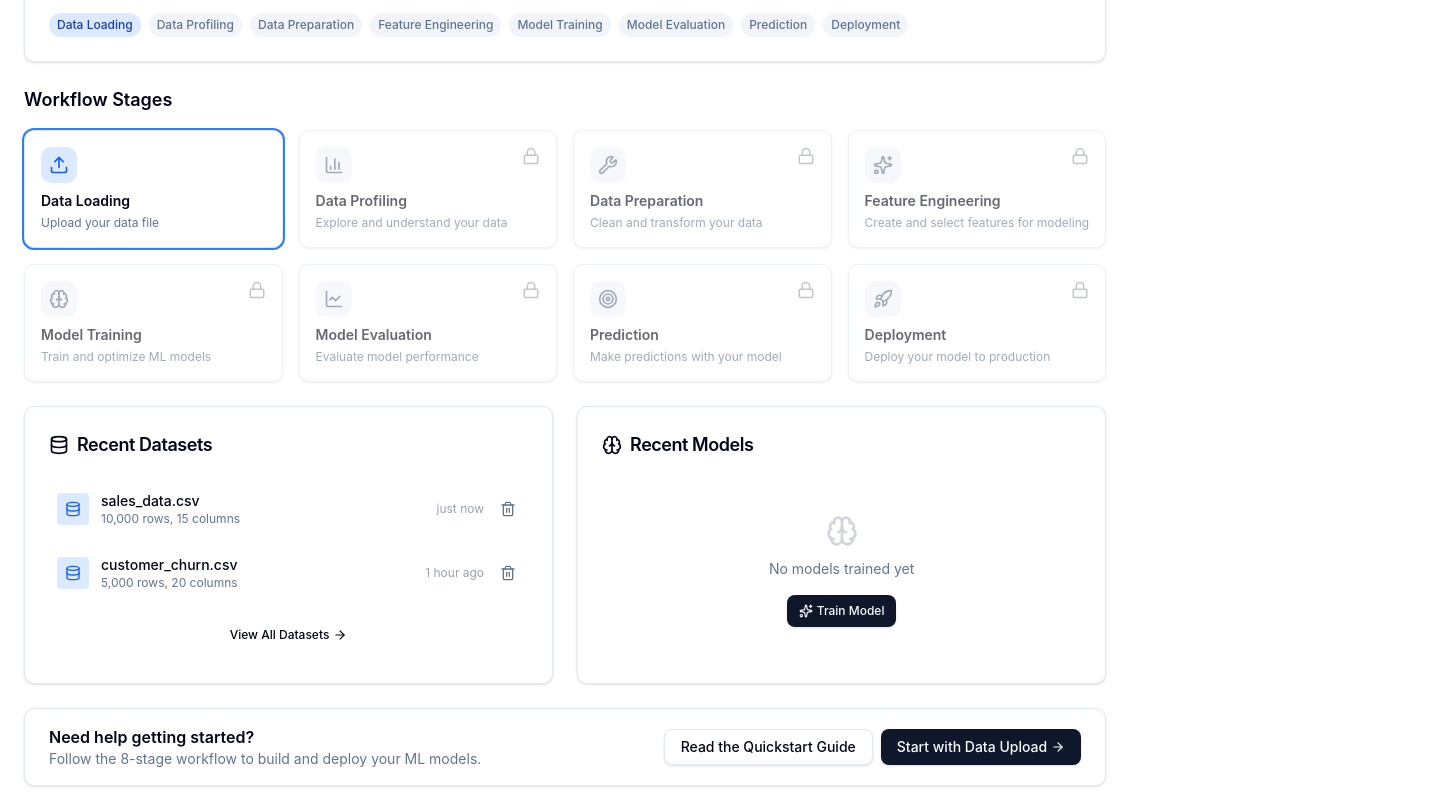
Scenario: DashboardPage › Dataset Item Interactions › opens the erase dialog from a row without opening the dataset
The image size is (1440, 810).
(page scrolled)
Press Enter in the button named "Delete dataset sales_data.csv", box x1=496 y1=497 x2=520 y2=521
Click the button named "Delete dataset sales_data.csv".
click(508, 509)  # box x1=496 y1=497 x2=520 y2=521
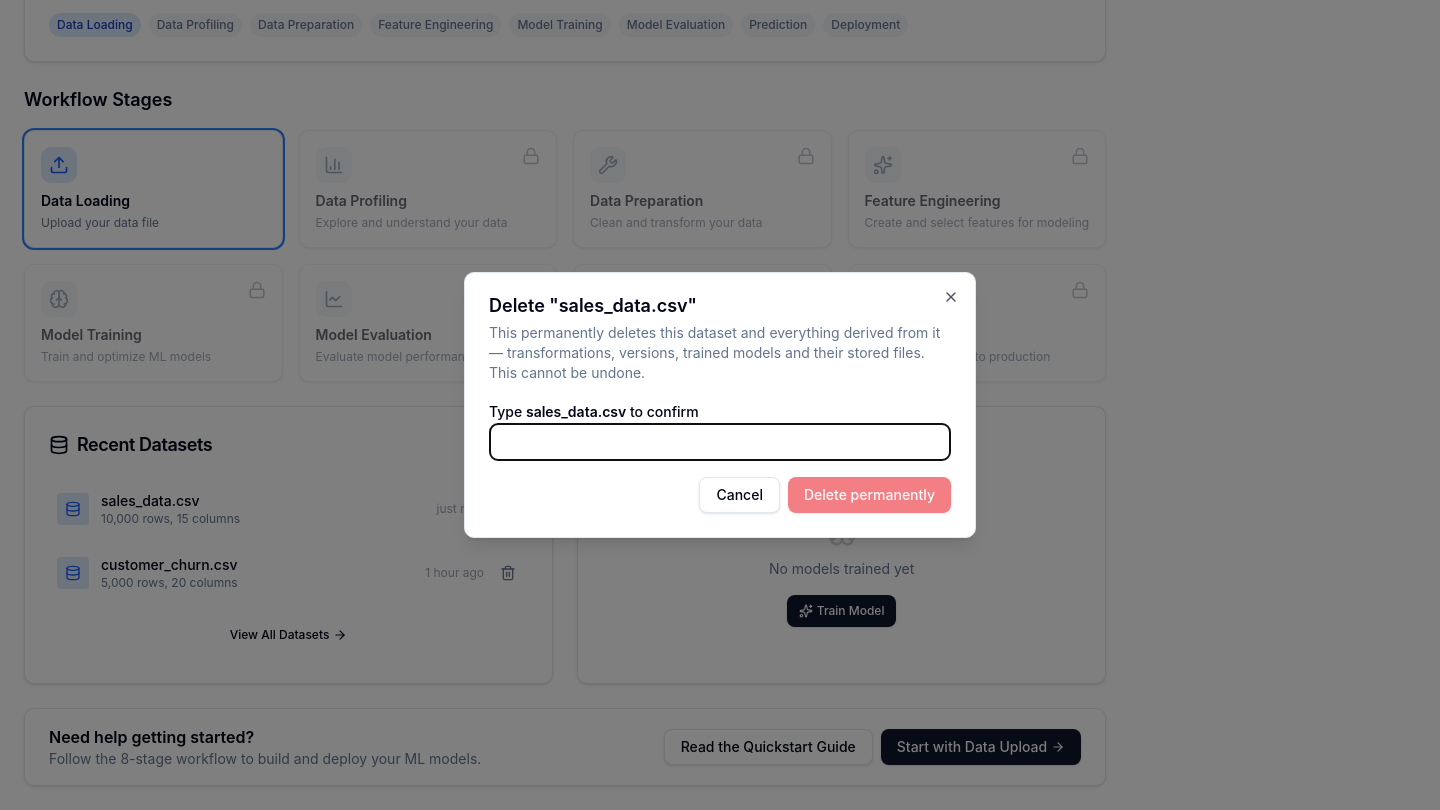
expect the dialog "Delete \"sales_data.csv\"" shows "permanently deletes this dataset": met, box x1=489 y1=324 x2=940 y2=381
Press Escape in the dialog "Delete \"sales_data.csv\"", box x1=464 y1=272 x2=976 y2=538
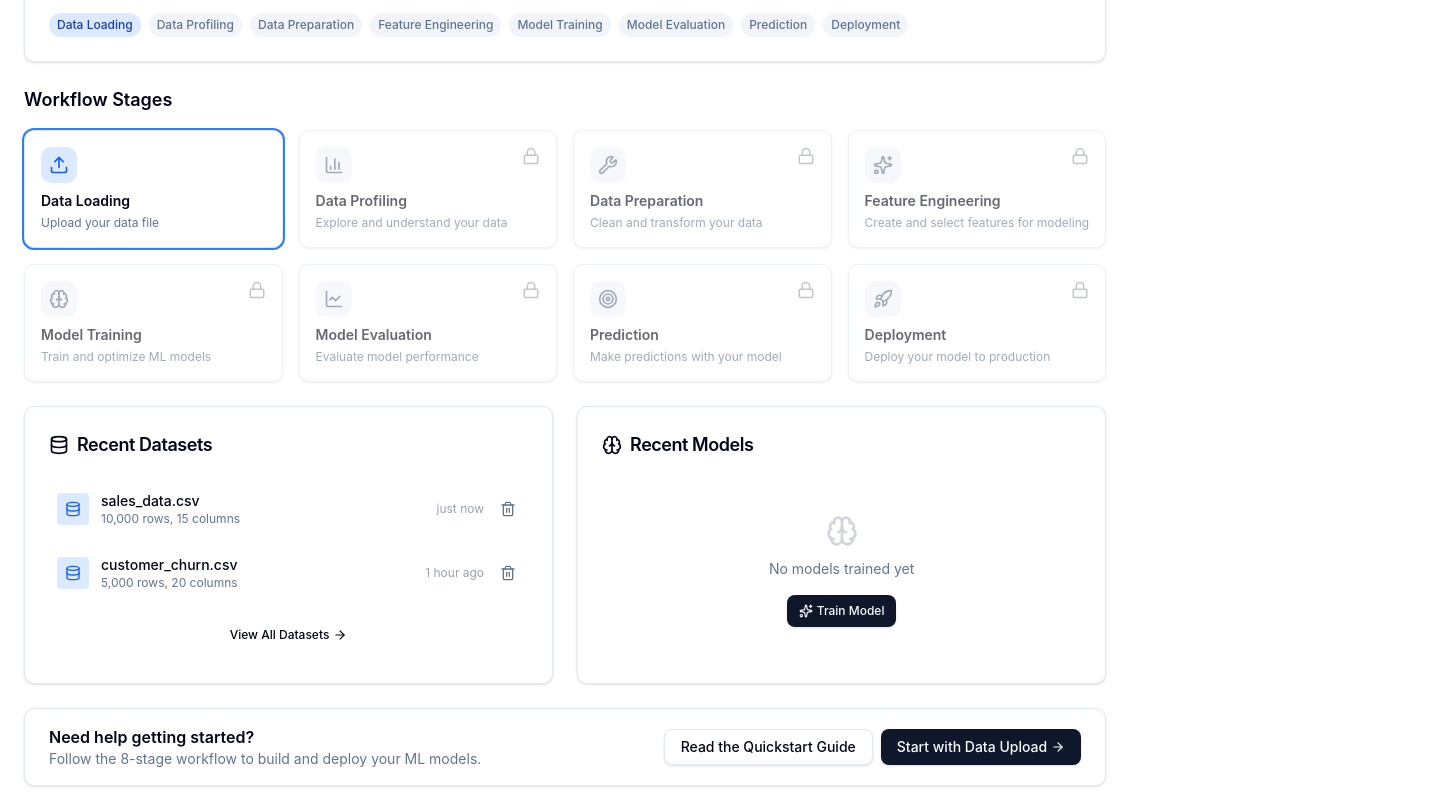
expect the dialog is gone: met
